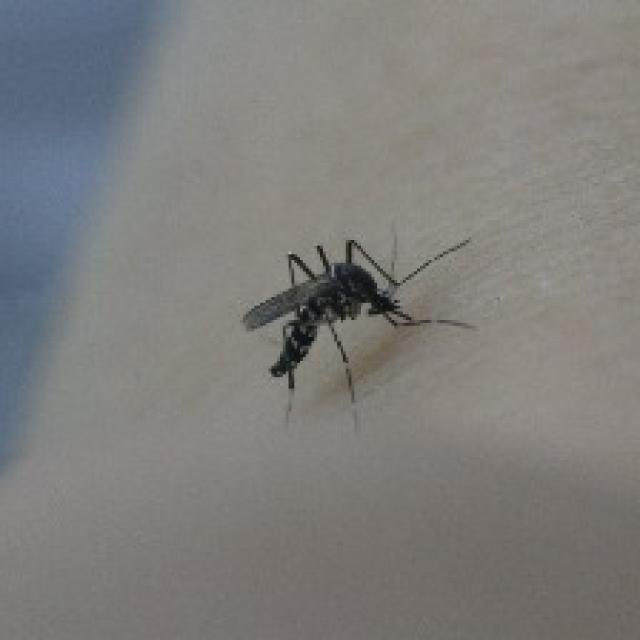aedes: (237, 226, 477, 417)
